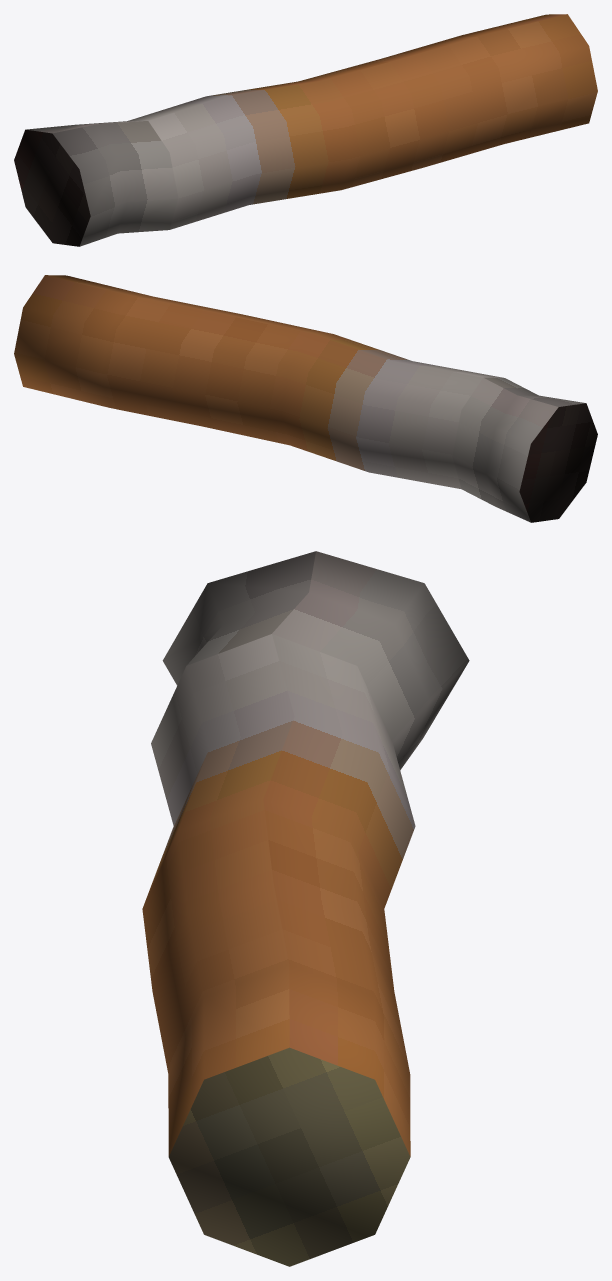
Rendered from cig_3.glb.
3 renders of one model, top to bottom at view 1: azimuth 30°, elevation 25°; view 2: azimuth 150°, elevation 25°; view 3: azimuth 270°, elevation 25°, orthographic. The views are drawn at different scales.
Visible parts, largest first — view 1: cig_3; view 2: cig_3; view 3: cig_3.
Boxes of the visible parts, x1,y1,x2,y2 form: cig_3: [14, 14, 597, 246]; cig_3: [14, 275, 597, 522]; cig_3: [142, 551, 469, 1266].
Bounding box in the file's own units: 0.0729 × 0.015 × 0.0203.
1 material, 1 textured.
